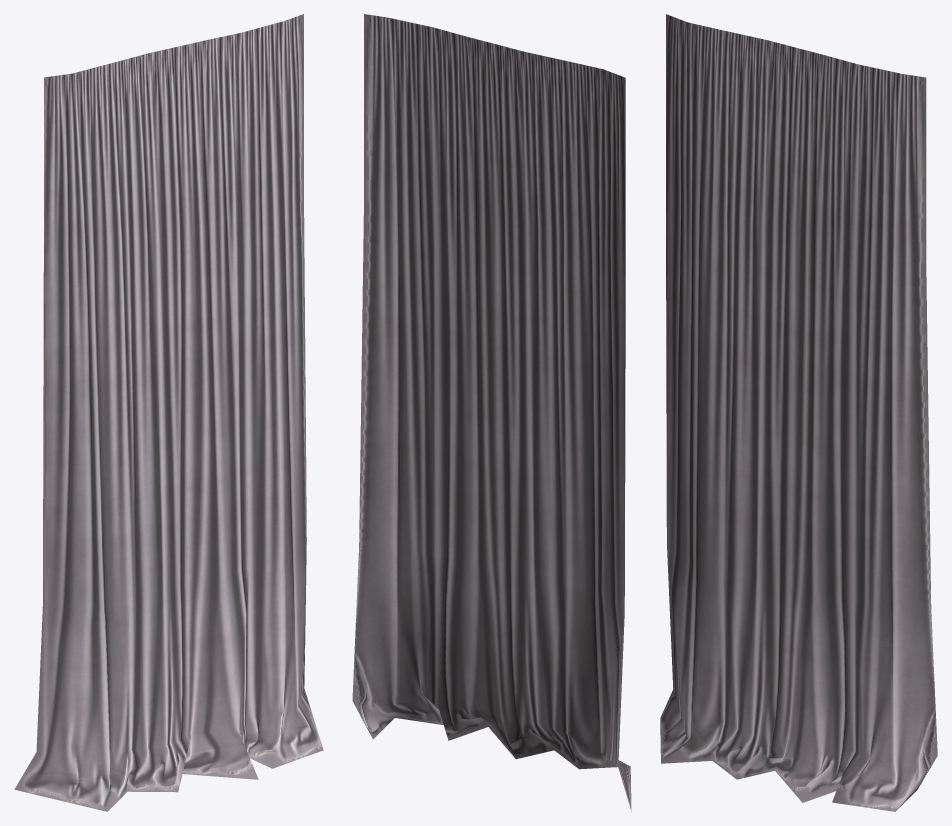
The model's file is Curtain04.FBX.
3 renders of one model, left to right at view 1: azimuth 30°, elevation 25°; view 2: azimuth 150°, elevation 25°; view 3: azimuth 330°, elevation 25°, orthographic.
Visible parts, largest first — view 1: Curtain04; view 2: Curtain04; view 3: Curtain04.
Boxes of the visible parts, bbox=[...] form: Curtain04: bbox=[14, 14, 323, 811]; Curtain04: bbox=[352, 14, 631, 811]; Curtain04: bbox=[660, 14, 937, 811].
Size of the model in its own units: 121 by 37.74 by 292.
